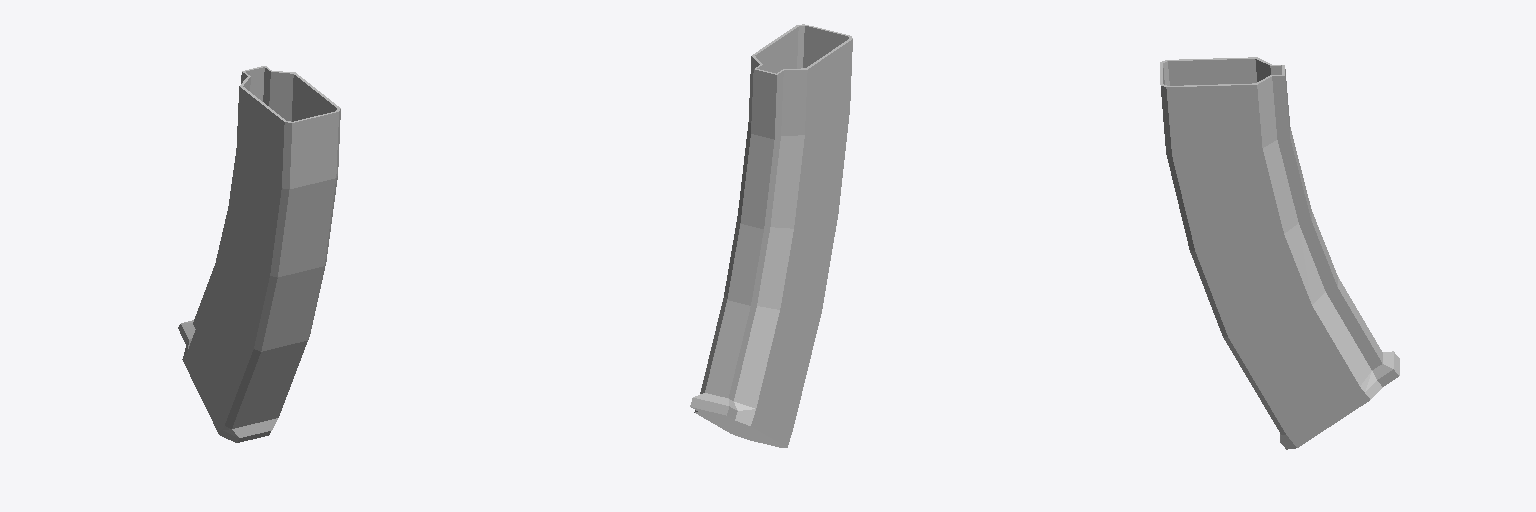
The model's file is Mag1.obj.
3 renders of one model, left to right at view 1: azimuth 30°, elevation 25°; view 2: azimuth 150°, elevation 25°; view 3: azimuth 270°, elevation 25°, orthographic.
Parts seen in each view (by area): view 1: Cube.007_Cube; view 2: Cube.007_Cube; view 3: Cube.007_Cube.
Part boxes in pixels (x1,y1,x2,y2): Cube.007_Cube: (178,66,340,442); Cube.007_Cube: (690,24,852,447); Cube.007_Cube: (1160,57,1399,449).
Size of the model in its own units: 0.0524 by 0.3297 by 0.1923.